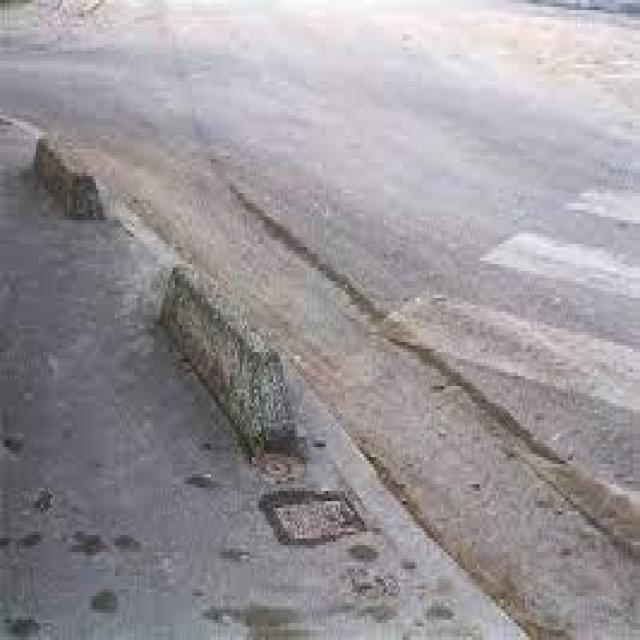curb: (159, 253, 294, 460), (31, 131, 107, 219)
